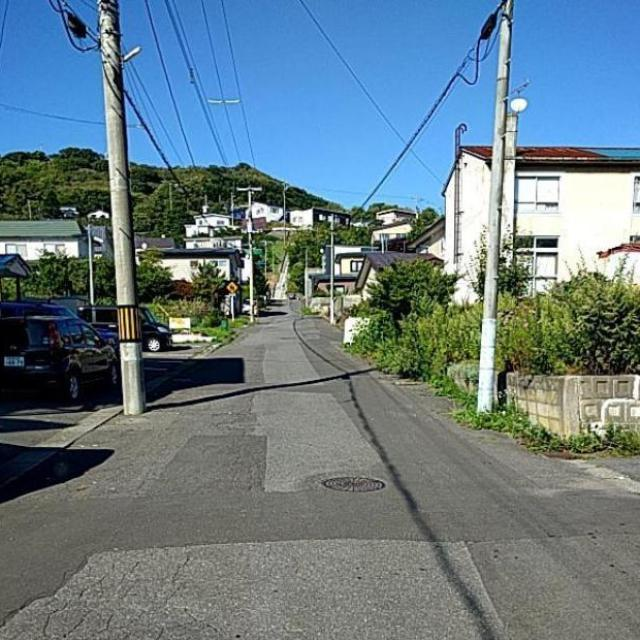Sambungan: (0, 436, 640, 631)
